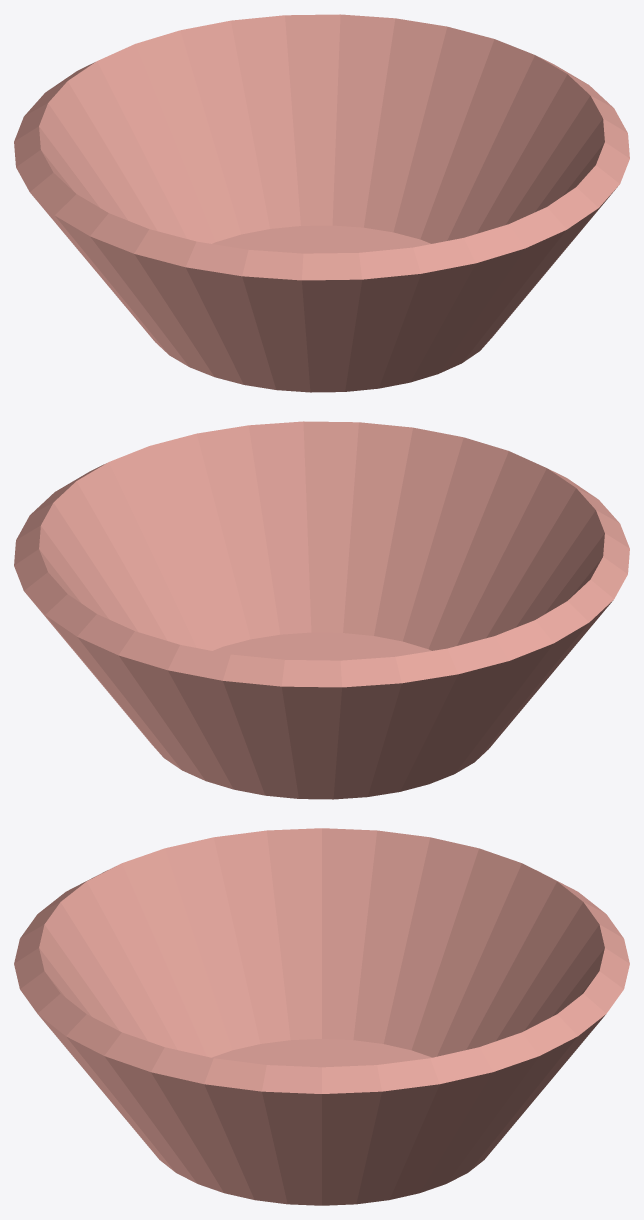
Rendered from oggetto_mensola.fbx.
3 views of the same model, one above another, from view 1: azimuth 30°, elevation 25°; view 2: azimuth 150°, elevation 25°; view 3: azimuth 270°, elevation 25° (orthographic).
Parts seen in each view (by area): view 1: oggetto_mensola; view 2: oggetto_mensola; view 3: oggetto_mensola.
Part boxes in pixels (bbox=[...]): oggetto_mensola: bbox=[14, 14, 629, 392]; oggetto_mensola: bbox=[14, 421, 629, 799]; oggetto_mensola: bbox=[14, 828, 629, 1205].
Size of the model in its own units: 10 by 3.29 by 10.
